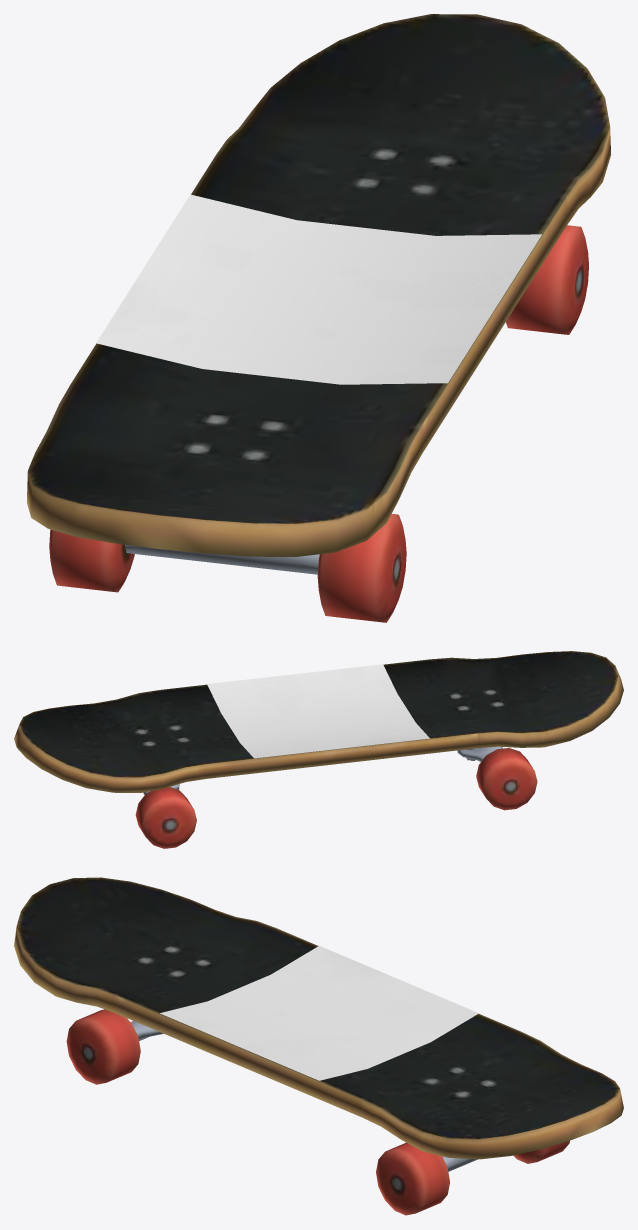
3 renders of one model, top to bottom at view 1: azimuth 30°, elevation 25°; view 2: azimuth 150°, elevation 25°; view 3: azimuth 270°, elevation 25°, orthographic. The views are drawn at different scales.
Bounding box in the file's own units: 9.32 × 2 × 9.32.
2 materials, 2 textured.
